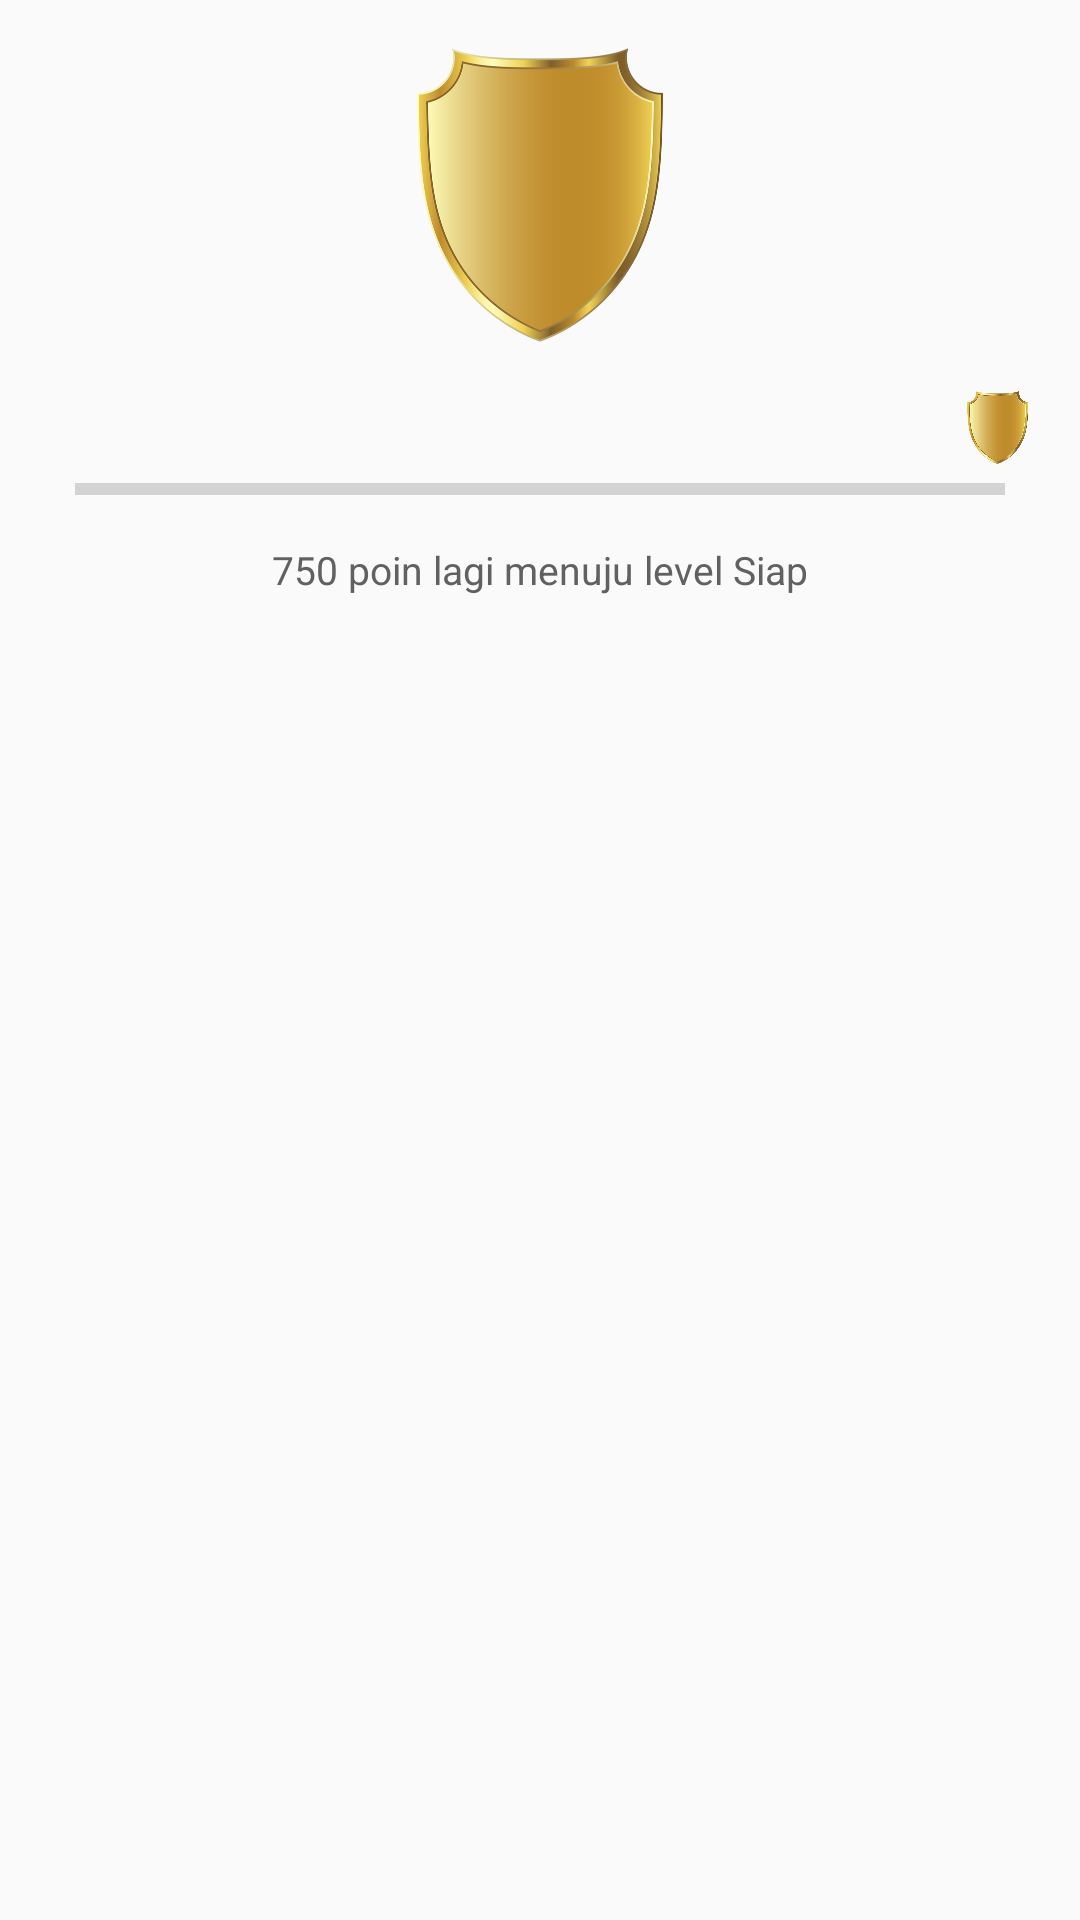

Icons on this 1080w x 1920h Android screen, each with the point to tap as [x,y]:
badges: [540,195], [997,427]
